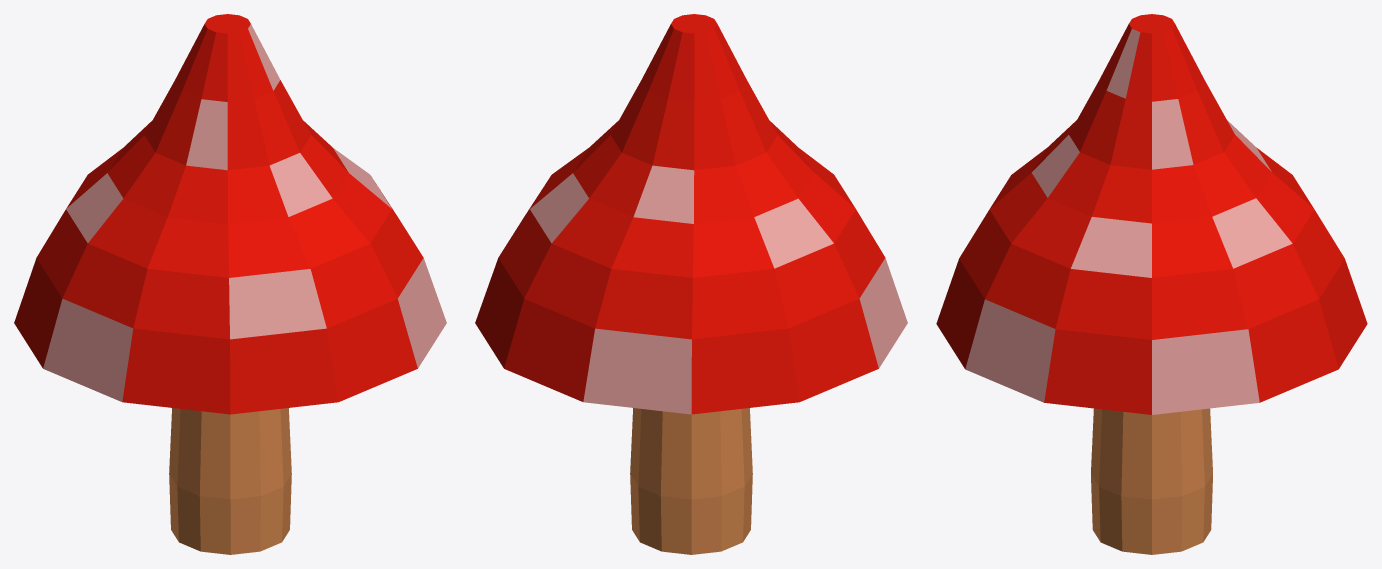
Rendered from cogumelo1.fbx.
3 views of the same model, side by side, from view 1: azimuth 30°, elevation 25°; view 2: azimuth 150°, elevation 25°; view 3: azimuth 270°, elevation 25° (orthographic).
Visible parts, largest first — view 1: Cylinder; view 2: Cylinder; view 3: Cylinder.
Part boxes in pixels (x1,y1,x2,y2): Cylinder: (14, 14, 446, 554); Cylinder: (475, 14, 907, 554); Cylinder: (936, 14, 1367, 554).
Bounding box in the file's own units: 160 × 207 × 160.
